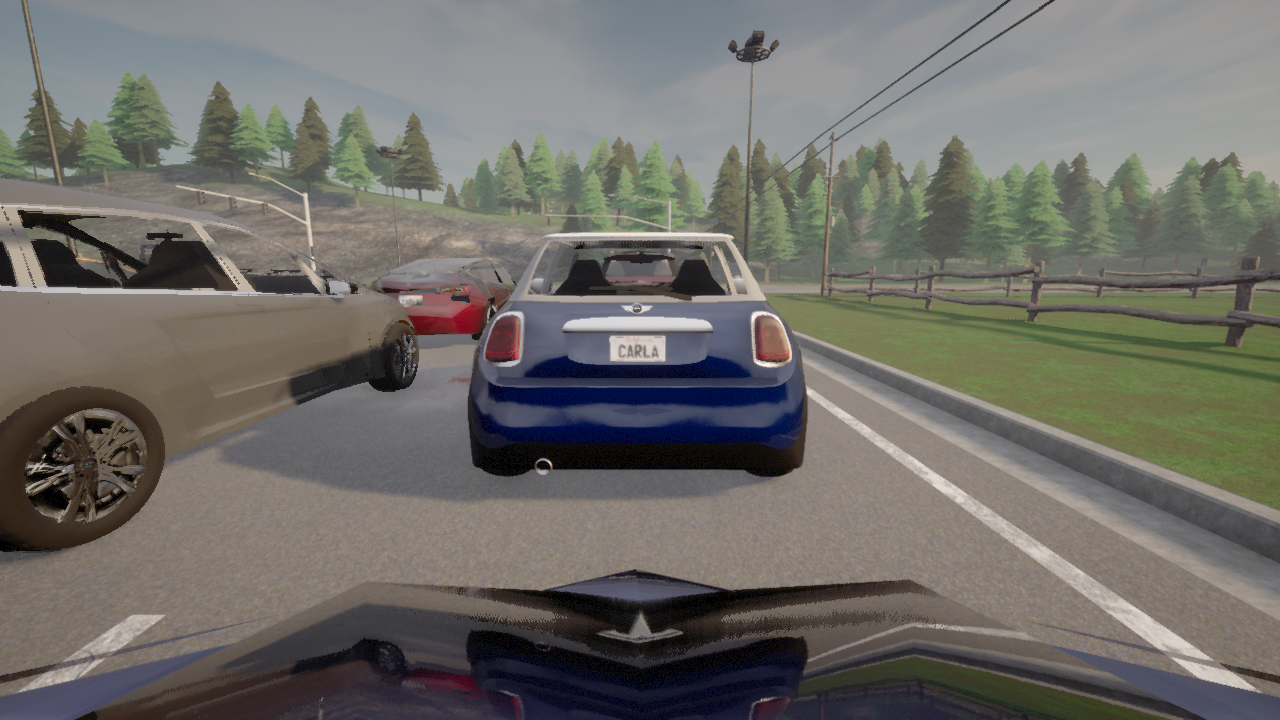cyclist: (0, 569, 1279, 719), (467, 232, 807, 476), (369, 258, 519, 340), (379, 276, 381, 278)
